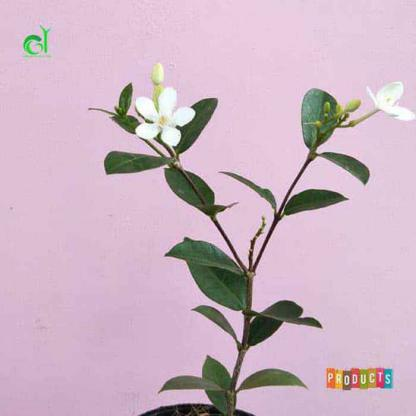Melati: (127, 90, 213, 156), (353, 80, 415, 137)
